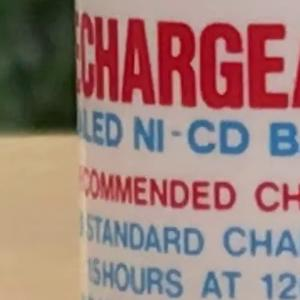NI-CD: (124, 110, 259, 162)
